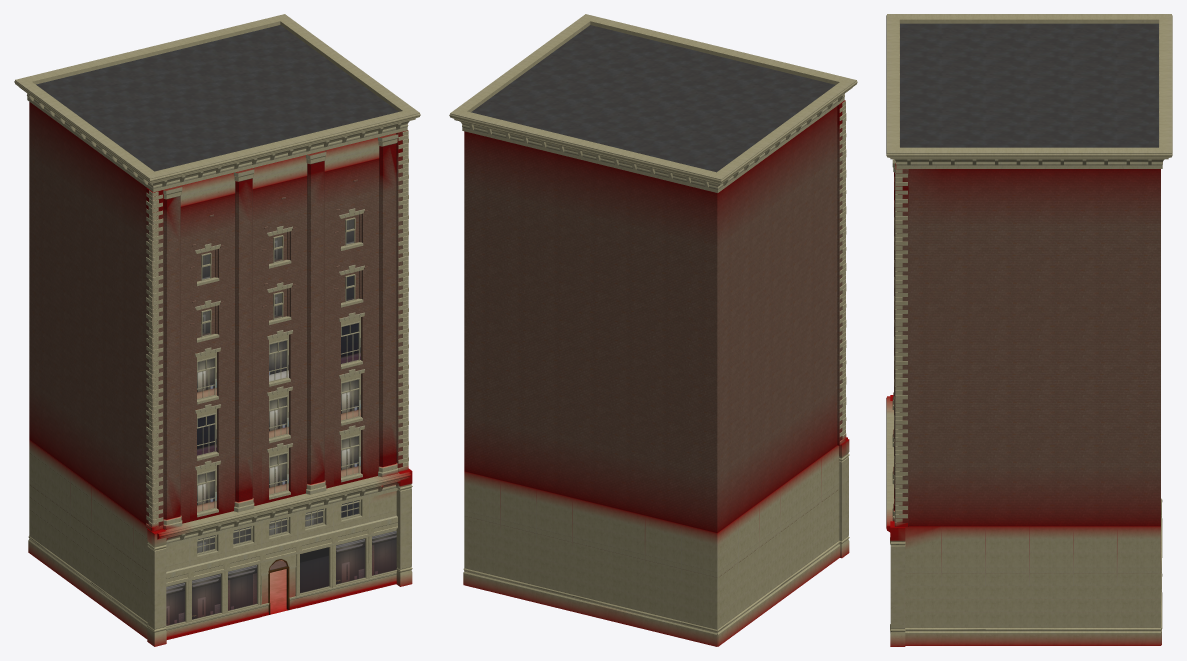
File: Building_Medium_2_001.glb
3 renders of one model, left to right at view 1: azimuth 30°, elevation 25°; view 2: azimuth 150°, elevation 25°; view 3: azimuth 270°, elevation 25°, orthographic. The views are drawn at different scales.
Visible parts, largest first — view 1: Building_Medium_2.001; view 2: Building_Medium_2.001; view 3: Building_Medium_2.001.
Part boxes in pixels (x1=…): Building_Medium_2.001: x1=14, y1=14, x2=420, y2=646; Building_Medium_2.001: x1=449, y1=14, x2=857, y2=646; Building_Medium_2.001: x1=886, y1=14, x2=1172, y2=646.
Bounding box in the file's own units: 15.06 × 25.01 × 13.06.
Materials: 8 (7 with a texture image).
